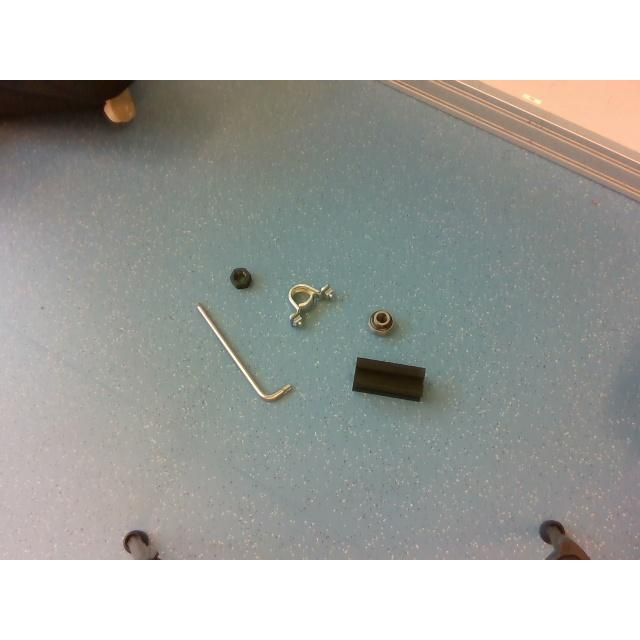AllenKey: (196, 303, 294, 401)
Bearing2: (369, 310, 393, 334)
Housing: (288, 282, 332, 326)
M20: (230, 268, 252, 288)
S40_40_B: (353, 357, 425, 401)
